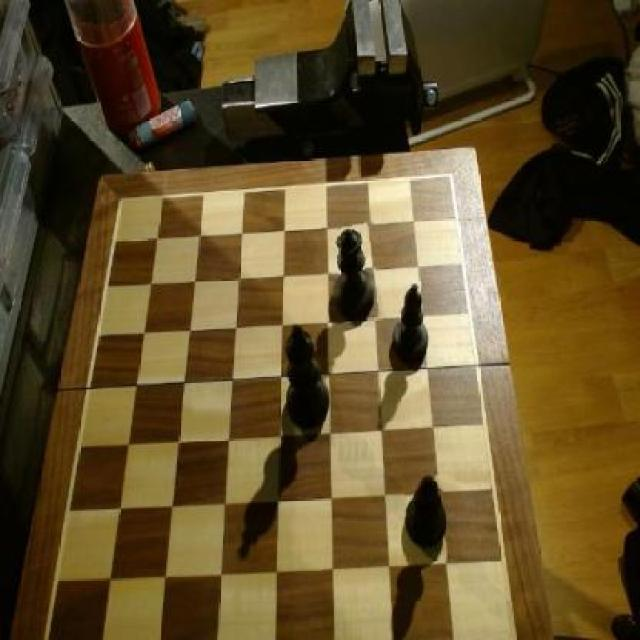bishop: (405, 477, 446, 565), (391, 282, 430, 369)
black-bishop: (285, 321, 333, 434)
black-pawn: (331, 223, 378, 324)
